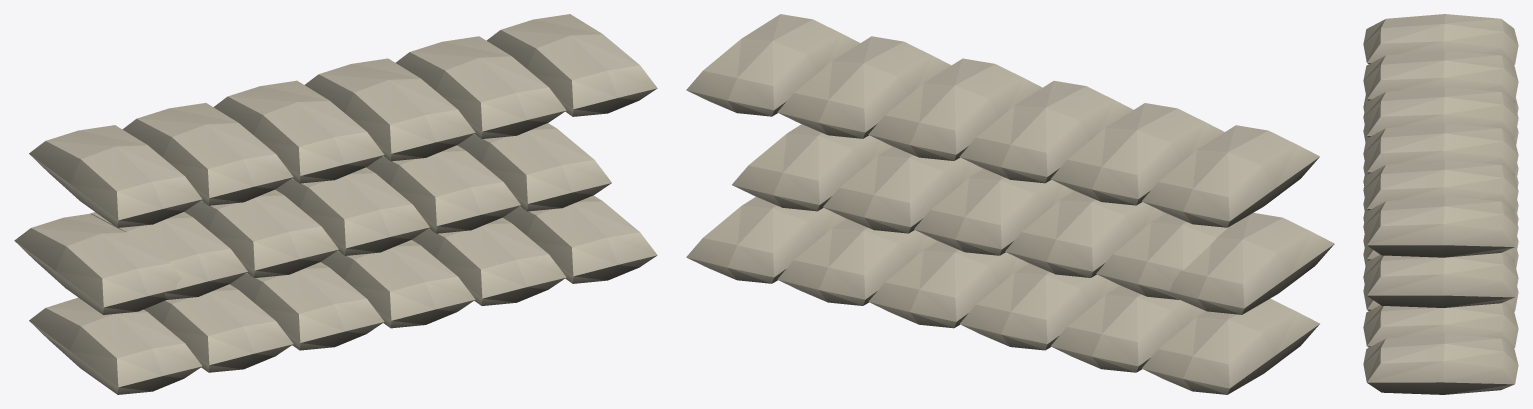
File: sandbag_wall.glb
The picture shows the model from 3 angles, left to right: view 1: azimuth 30°, elevation 25°; view 2: azimuth 150°, elevation 25°; view 3: azimuth 270°, elevation 25°; orthographic projection. The views are drawn at different scales.
Parts seen in each view (by area): view 1: sandbag_model.001; view 2: sandbag_model.001; view 3: sandbag_model.001.
Part boxes in pixels (x1,y1,x2,y2): sandbag_model.001: (14, 14, 657, 394); sandbag_model.001: (686, 14, 1334, 394); sandbag_model.001: (1363, 14, 1518, 394).
Size of the model in its own units: 2.4 by 0.9 by 0.7.
